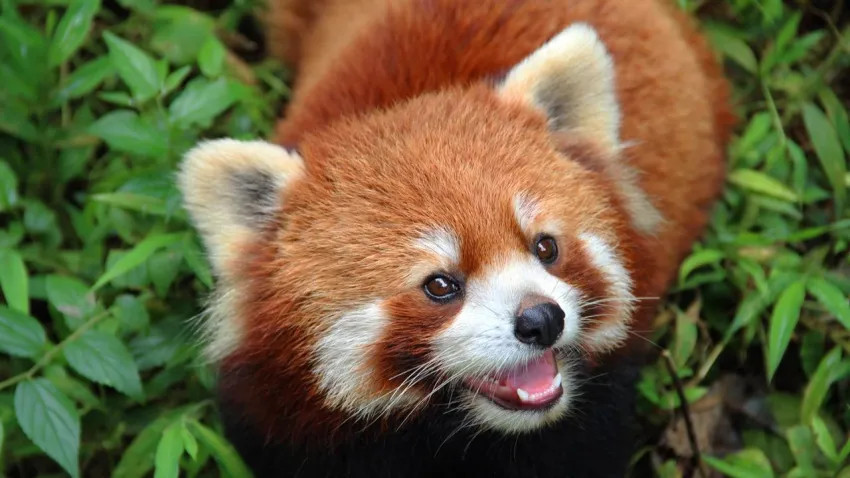Red panda: (183, 25, 661, 435)
